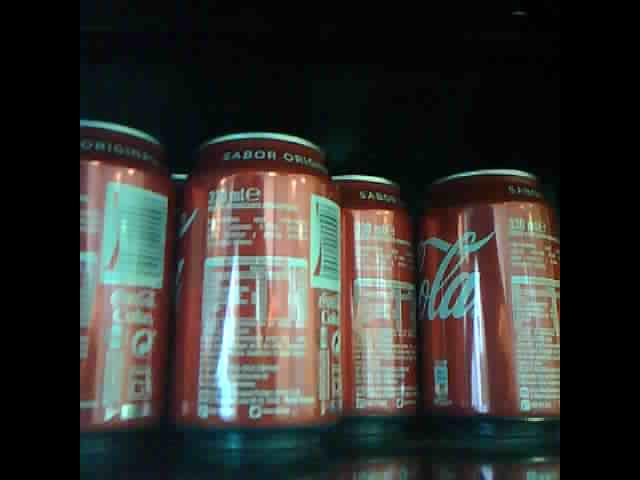coca cola: (185, 130, 341, 437), (415, 161, 559, 431), (76, 111, 169, 440), (327, 165, 420, 426)
